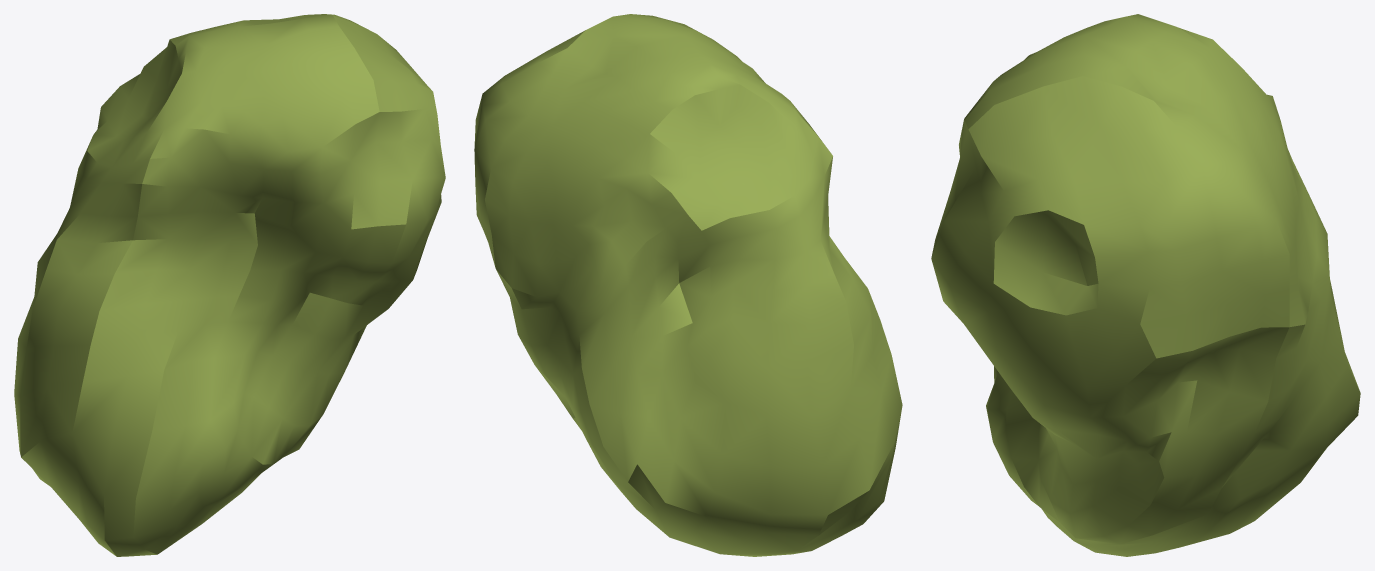
File: Asteroid01_L_b.fbx
3 renders of one model, left to right at view 1: azimuth 30°, elevation 25°; view 2: azimuth 150°, elevation 25°; view 3: azimuth 270°, elevation 25°, orthographic. The views are drawn at different scales.
Visible parts, largest first — view 1: Asteroid01b_LOD0; view 2: Asteroid01b_LOD0; view 3: Asteroid01b_LOD0.
Boxes of the visible parts, box(x1,y1,x2,y2) form: Asteroid01b_LOD0: box(14, 14, 445, 556); Asteroid01b_LOD0: box(474, 14, 902, 556); Asteroid01b_LOD0: box(931, 14, 1360, 556).
Size of what is drawn, in the model's own units: 1.81 by 2.11 by 1.42.
